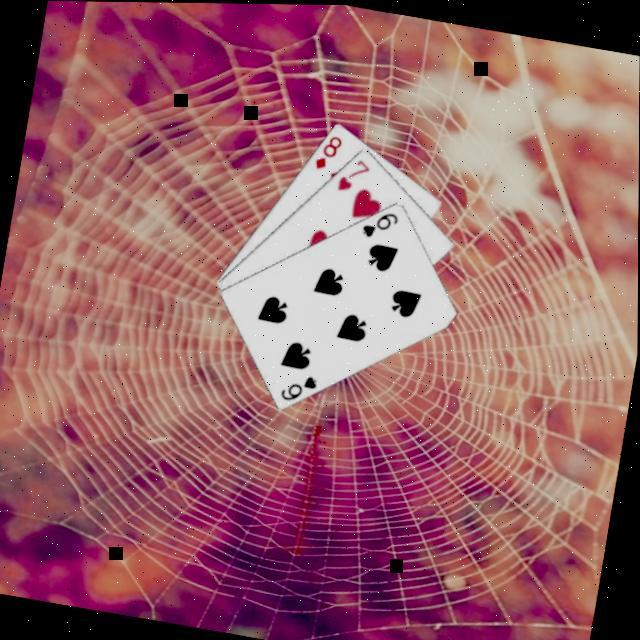6S: (359, 202, 404, 243), (278, 366, 323, 407)
7H: (334, 151, 375, 196)
8D: (312, 128, 347, 174)
